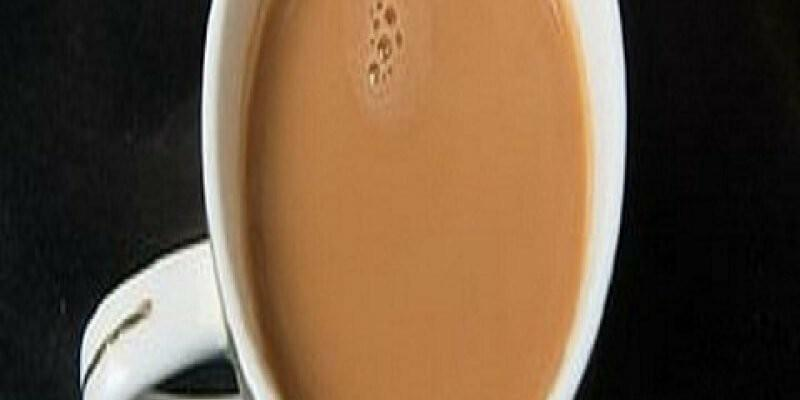Chai: (233, 0, 595, 400)
